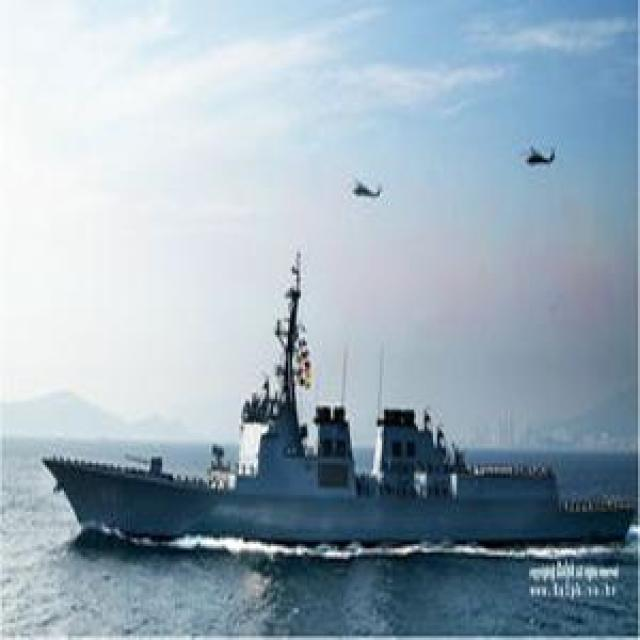navalvessels: (26, 235, 624, 546)
